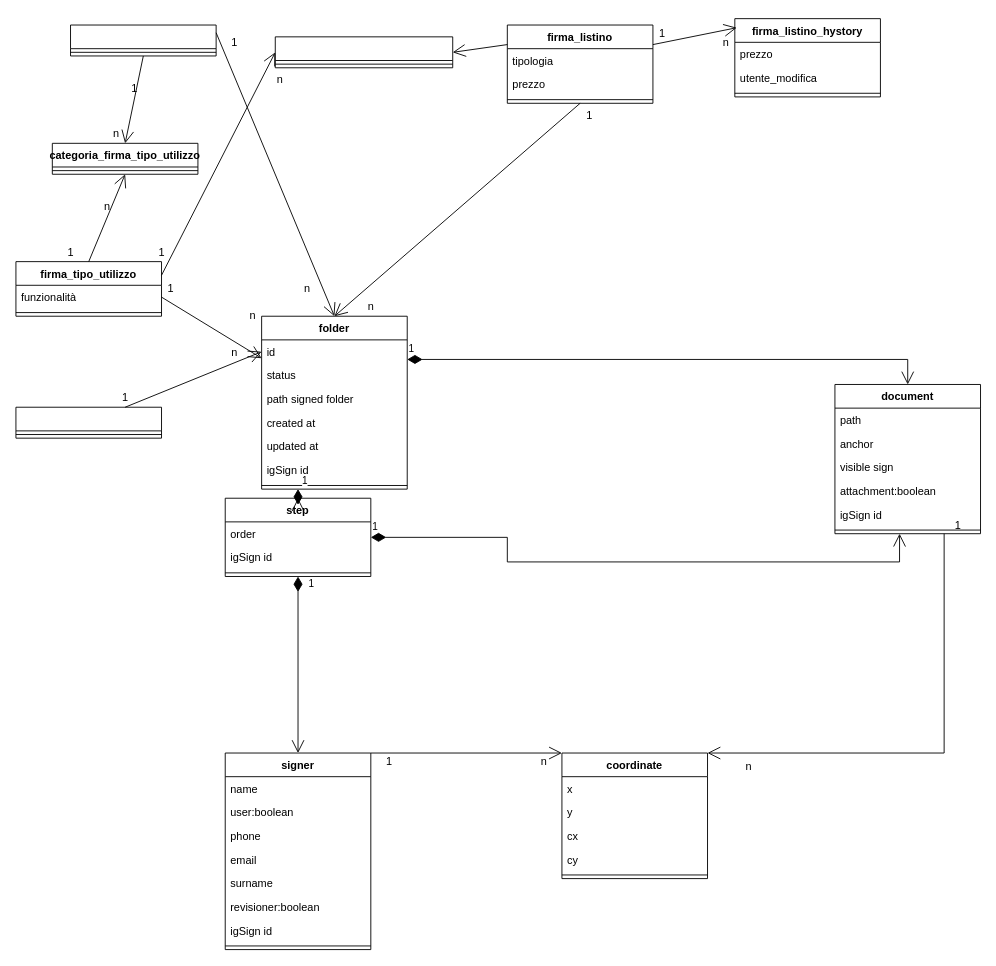
Image size: 996x966. Some labels were removed from this diagram. Each missing label, with the centre of its shape:
"categoria" belongs at point 143,40.
"firma_tipo_utilizzo_firma_listino" belongs at point 363,52.
"utenti_gu" belongs at point 88,422.
